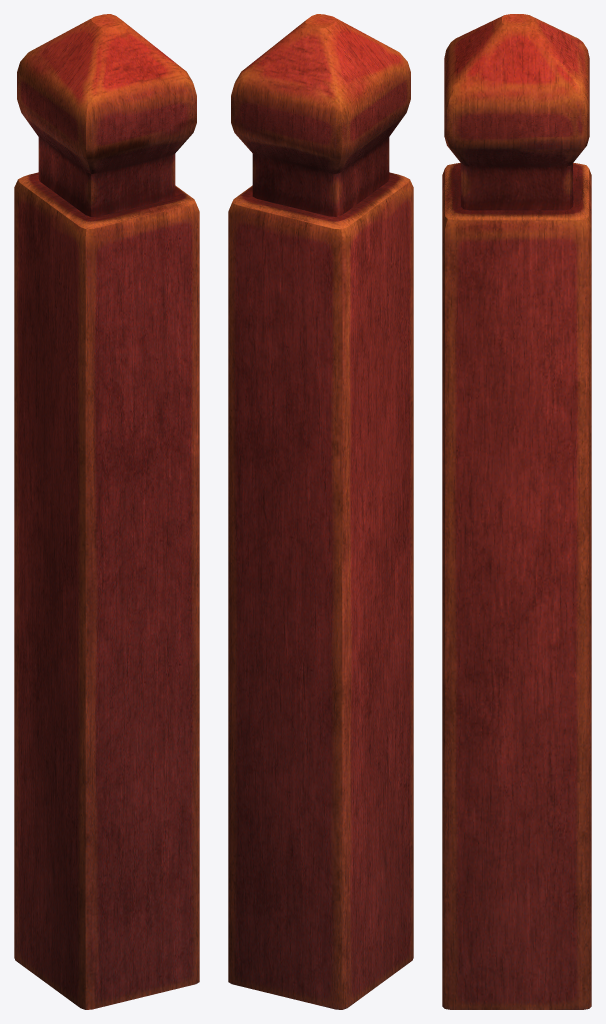
The model's file is SM_WoodFence_Column.glb.
The picture shows the model from 3 angles, left to right: view 1: azimuth 30°, elevation 25°; view 2: azimuth 150°, elevation 25°; view 3: azimuth 270°, elevation 25°; orthographic projection.
Visible parts, largest first — view 1: SM_WoodFence_Column_LOD0; view 2: SM_WoodFence_Column_LOD0; view 3: SM_WoodFence_Column_LOD0.
Boxes of the visible parts, x1,y1,x2,y2 form: SM_WoodFence_Column_LOD0: (14, 14, 199, 1009); SM_WoodFence_Column_LOD0: (228, 14, 413, 1009); SM_WoodFence_Column_LOD0: (442, 14, 591, 1009).
Size of the model in its own units: 0.1578 by 1.21 by 0.1705.
1 material, 1 textured.
